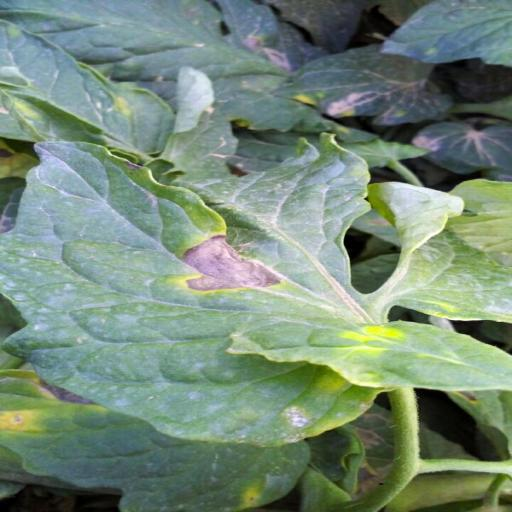Early Blight: (0, 138, 392, 448)
